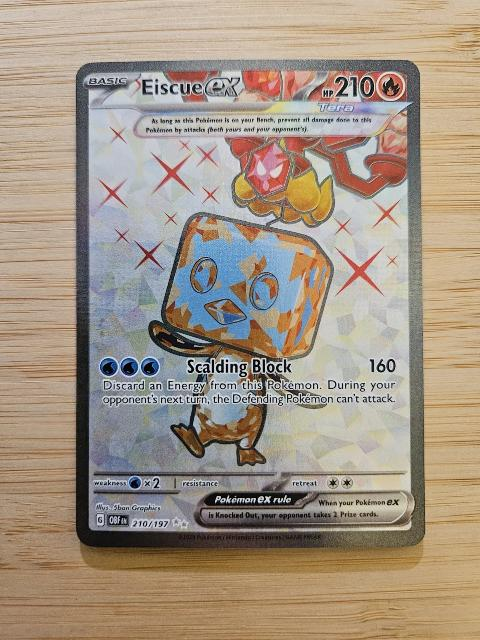Card: (72, 55, 430, 553)
Name: (138, 72, 242, 100)
